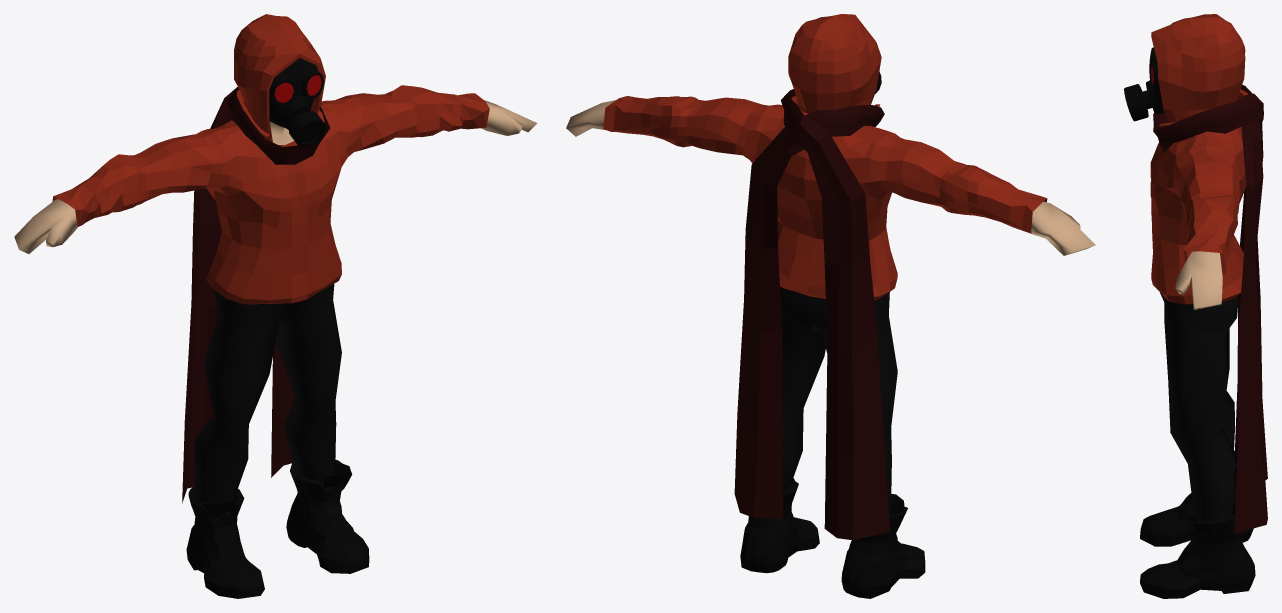
File: PlayerFBX.fbx
3 renders of one model, left to right at view 1: azimuth 30°, elevation 25°; view 2: azimuth 150°, elevation 25°; view 3: azimuth 270°, elevation 25°, orthographic.
Parts seen in each view (by area): view 1: Chaqueta, Body2_12_0, zapatos, Bufanda, Mask; view 2: Bufanda, Chaqueta, Body2_12_0, zapatos; view 3: Chaqueta, Body2_12_0, Bufanda, zapatos, Mask.
Part boxes in pixels (<box>): Chaqueta: <box>52,14,489,304</box>; Body2_12_0: <box>14,100,537,527</box>; zapatos: <box>186,459,369,598</box>; Bufanda: <box>182,87,330,503</box>; Mask: <box>269,58,325,147</box>; Bufanda: <box>734,89,890,540</box>; Chaqueta: <box>603,14,1047,300</box>; Body2_12_0: <box>566,100,1095,514</box>; zapatos: <box>740,478,925,598</box>; Chaqueta: <box>1150,14,1247,304</box>; Body2_12_0: <box>1160,251,1238,521</box>; Bufanda: <box>1153,84,1267,533</box>; zapatos: <box>1140,450,1255,598</box>; Mask: <box>1124,47,1164,121</box>.
Size of the model in its own units: 192 by 192 by 45.89.
